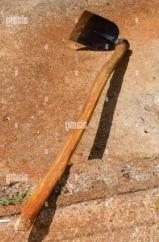HOUE: (0, 5, 132, 242)
